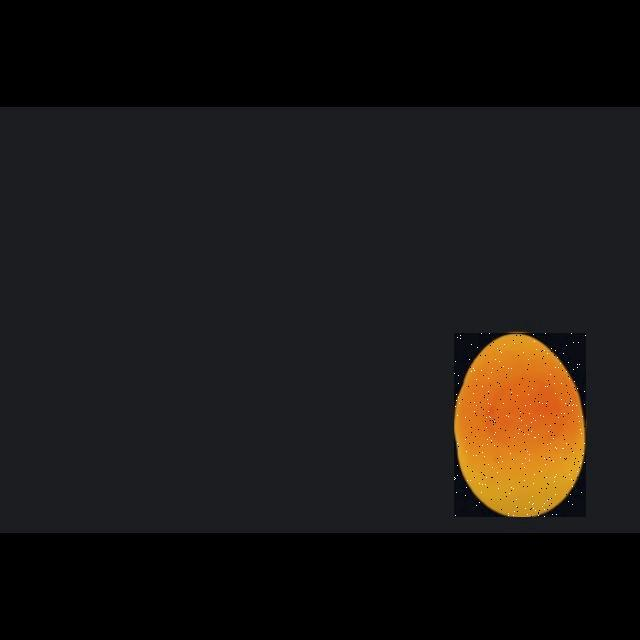Infertile: (454, 333, 586, 517)
